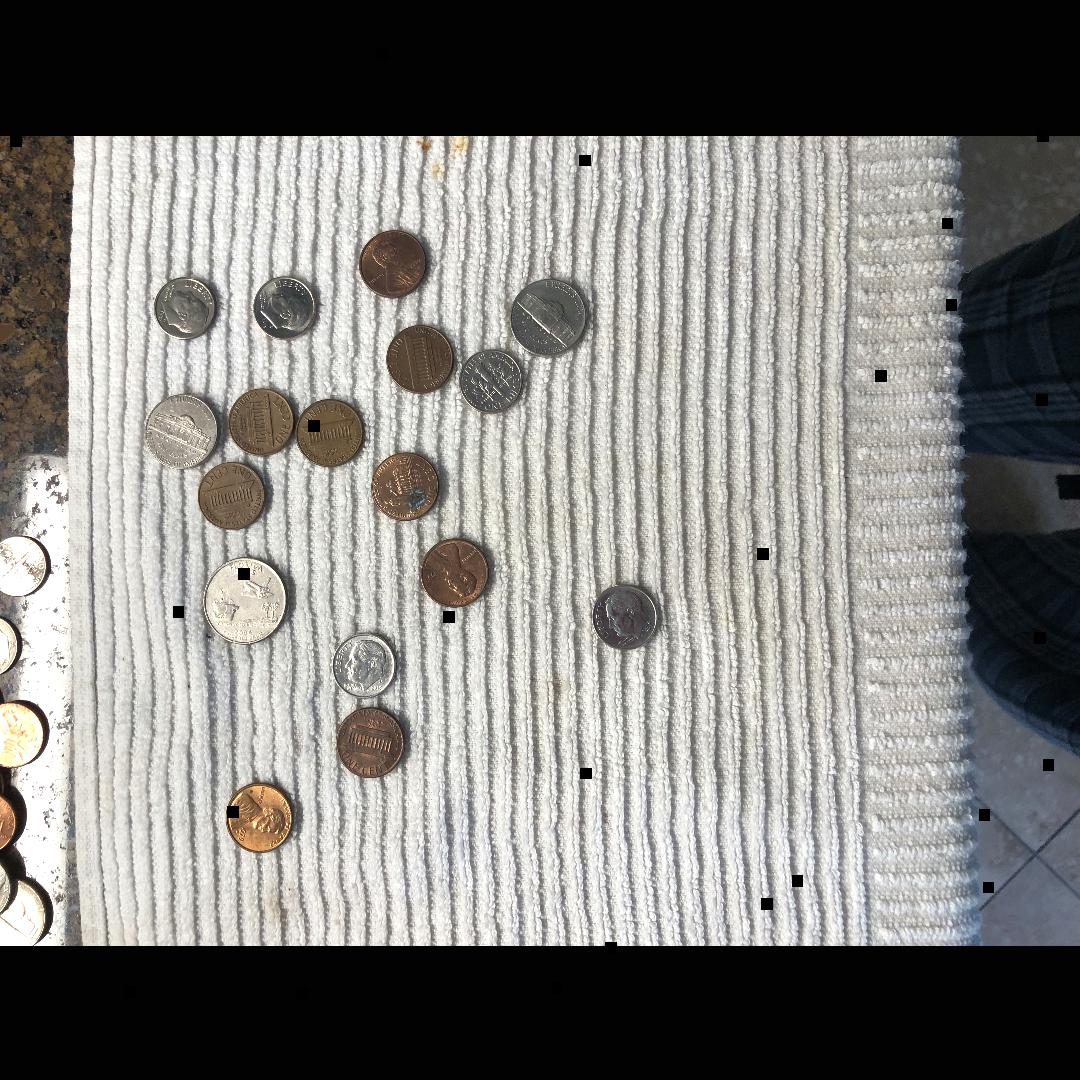Dime: (252, 272, 322, 338), (592, 584, 658, 650), (331, 632, 396, 698), (459, 348, 525, 413), (157, 276, 214, 338)
Nickel: (510, 276, 590, 354), (146, 393, 216, 466)
Penny: (335, 704, 409, 778), (368, 448, 444, 520), (384, 323, 458, 395), (418, 536, 492, 608), (358, 230, 426, 300), (296, 396, 362, 468), (195, 464, 267, 528), (228, 386, 295, 454), (228, 782, 294, 850)
Quarter: (204, 555, 288, 645)
